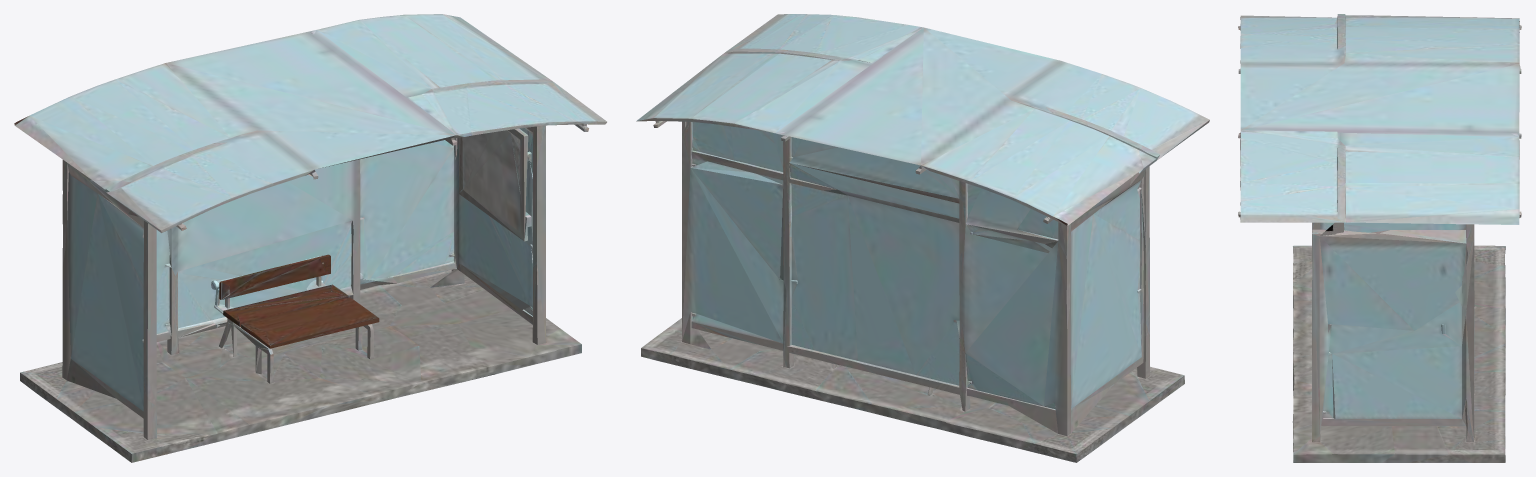
The model's file is shelter.glb.
The picture shows the model from 3 angles, left to right: view 1: azimuth 30°, elevation 25°; view 2: azimuth 150°, elevation 25°; view 3: azimuth 270°, elevation 25°; orthographic projection. The views are drawn at different scales.
Parts seen in each view (by area): view 1: output_unwrapped; view 2: output_unwrapped; view 3: output_unwrapped.
Part boxes in pixels (x1,y1,x2,y2): output_unwrapped: (14,14,606,462); output_unwrapped: (636,14,1209,462); output_unwrapped: (1238,14,1521,462).
Bounding box in the file's own units: 1.9 × 1.11 × 1.09.
1 material, 1 textured.
